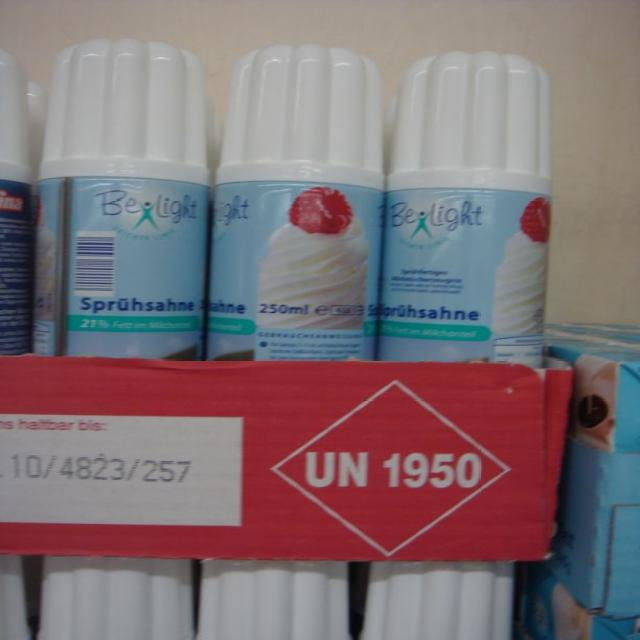cream: (33, 38, 208, 359), (209, 45, 385, 359), (382, 51, 551, 367), (0, 49, 32, 355)
